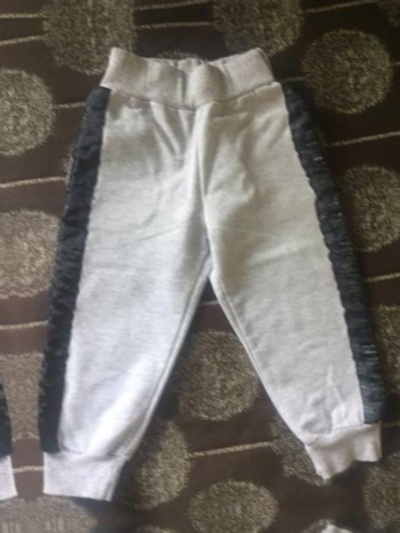Pants: (0, 13, 389, 495), (0, 44, 25, 526), (0, 0, 348, 16), (40, 529, 400, 533)
